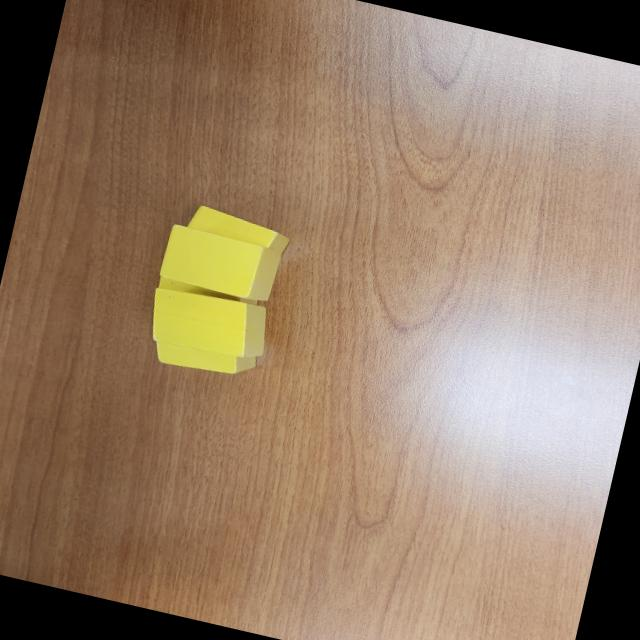yellow: (144, 280, 275, 366), (156, 222, 284, 304), (183, 202, 294, 256), (148, 332, 260, 385), (152, 272, 262, 315)
